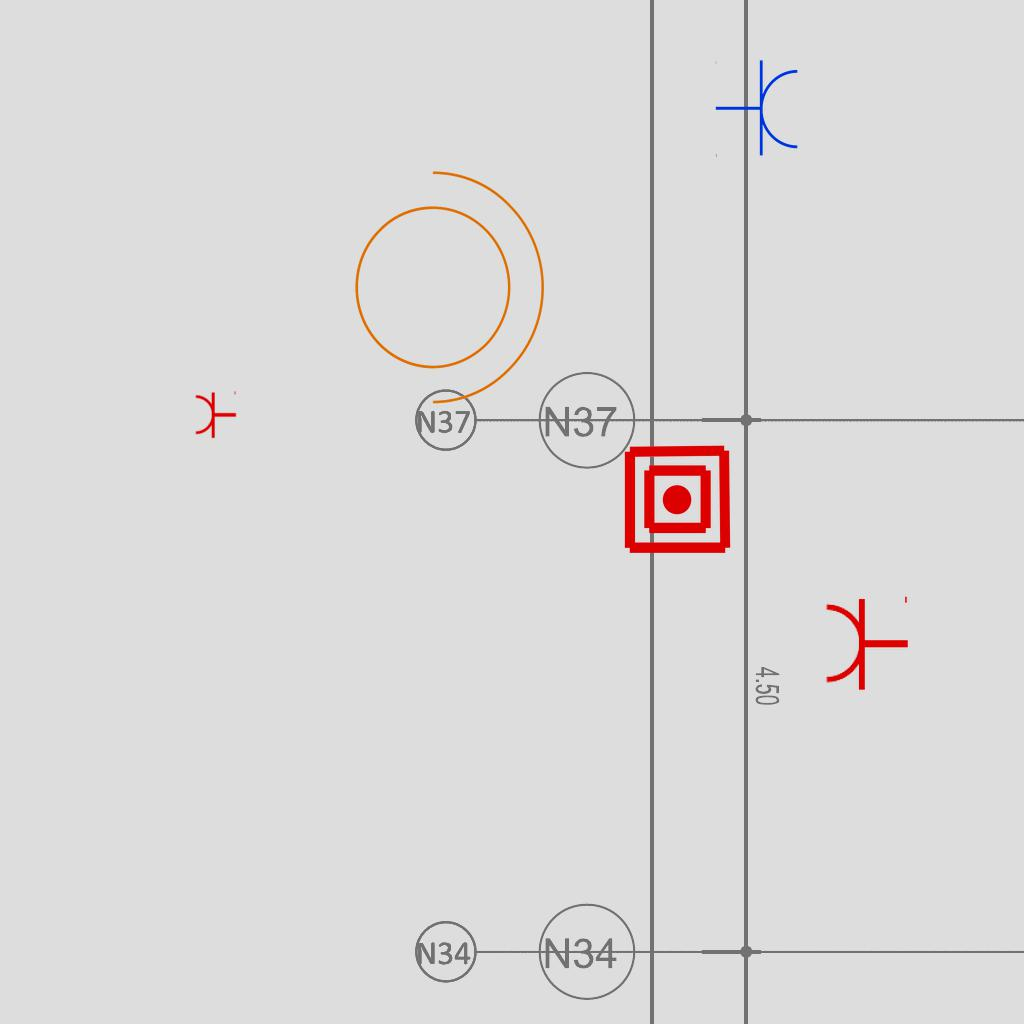NAM-Nichtautomatischer_Melder: (621, 443, 734, 556)
Scheinwerfer_fuer_Alarmbeleuchtung: (330, 149, 555, 413)
Schukosteckdose_einfach: (715, 59, 802, 159), (823, 592, 910, 692), (194, 389, 237, 439)
